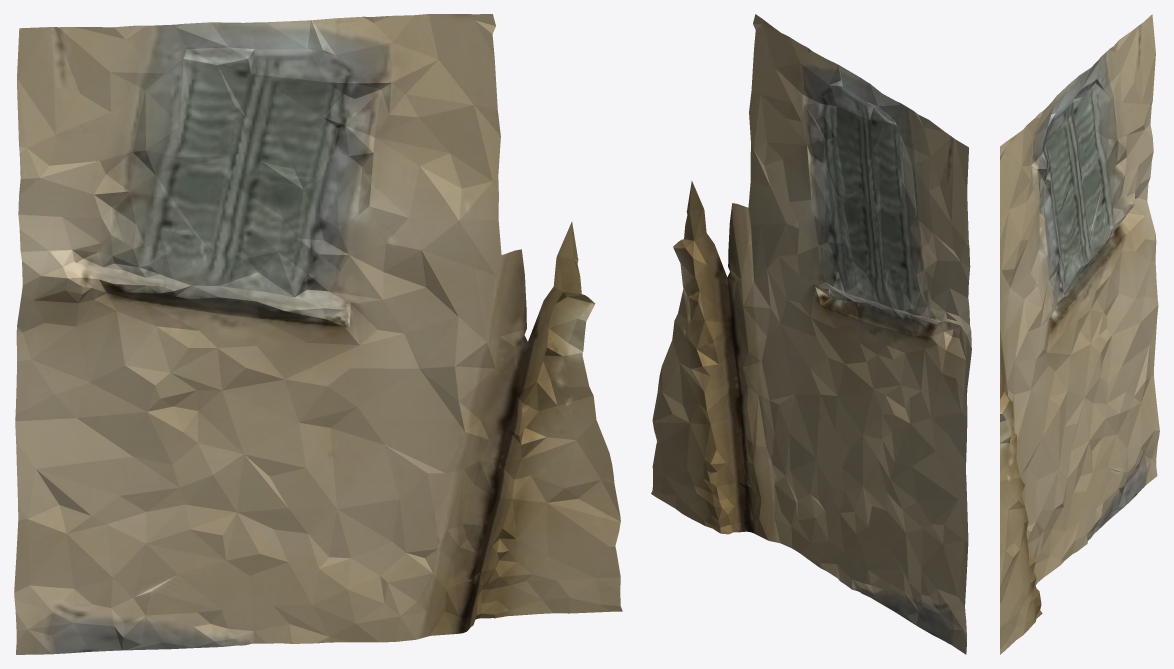
3 renders of one model, left to right at view 1: azimuth 30°, elevation 25°; view 2: azimuth 150°, elevation 25°; view 3: azimuth 270°, elevation 25°, orthographic. The views are drawn at different scales.
Bounding box in the file's own units: 2.78 × 3.35 × 1.05.
2 materials, 2 textured.
